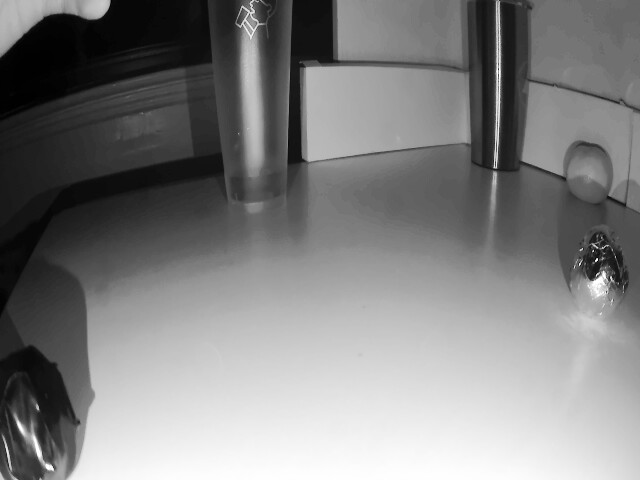black: (0, 331, 75, 480)
silver: (575, 219, 633, 323)
